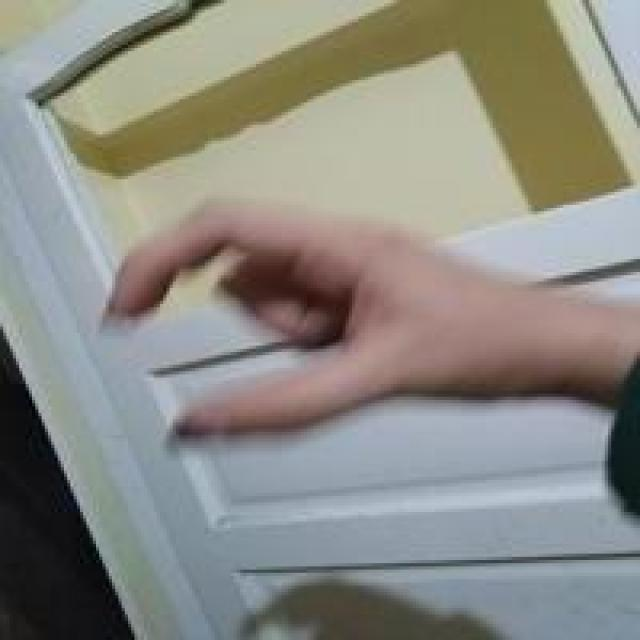Q: (98, 190, 510, 456)
